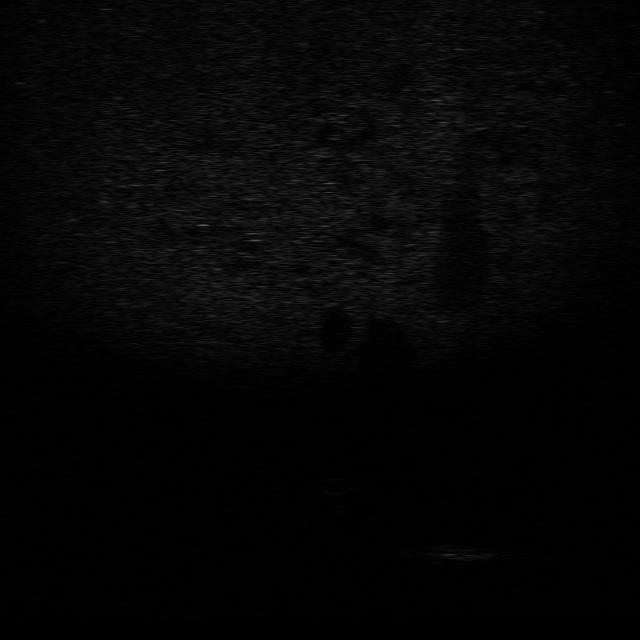ball: (314, 475, 355, 495)
metal bucket: (420, 543, 501, 564)
tyre: (367, 515, 432, 559)
